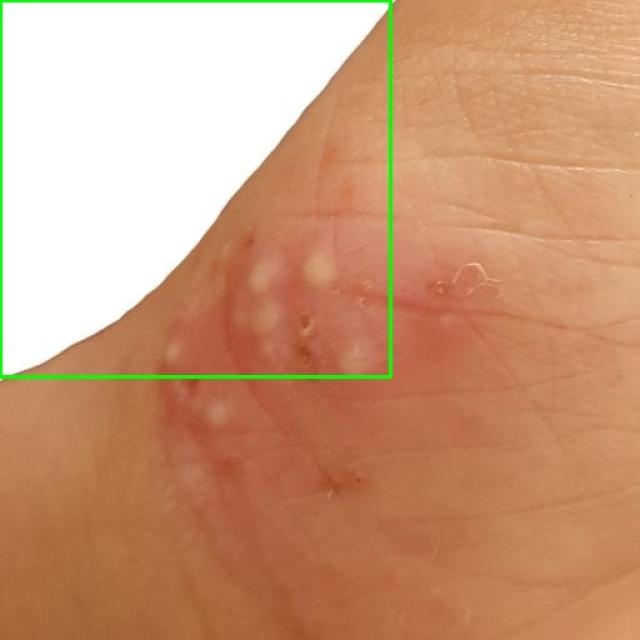Scabies: (0, 0, 390, 376)
